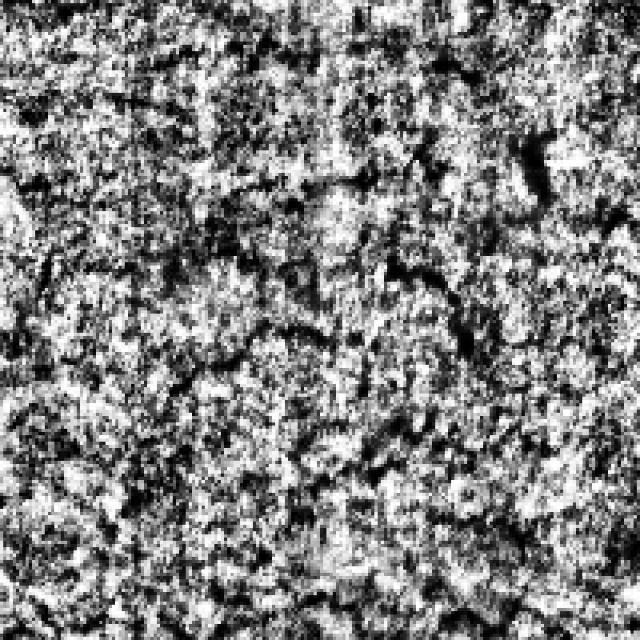Pitted_Surface: (156, 112, 566, 394), (204, 401, 522, 634)
